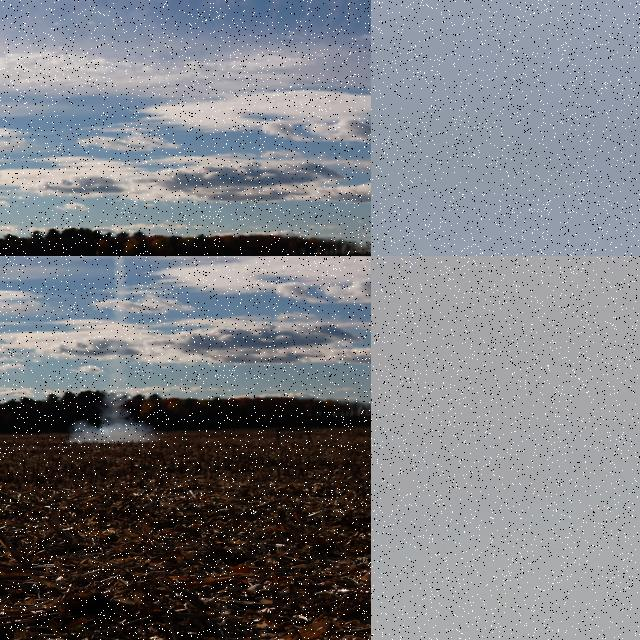Rocket: (96, 250, 99, 256)
